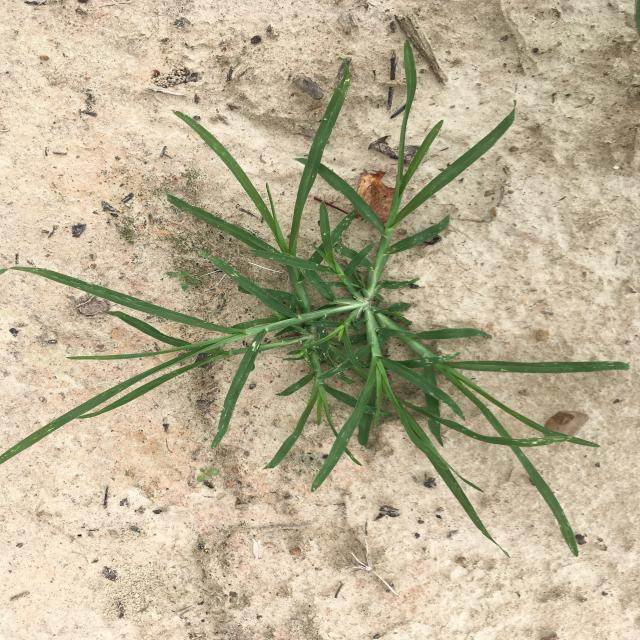Goosegrass: (1, 41, 629, 556)
